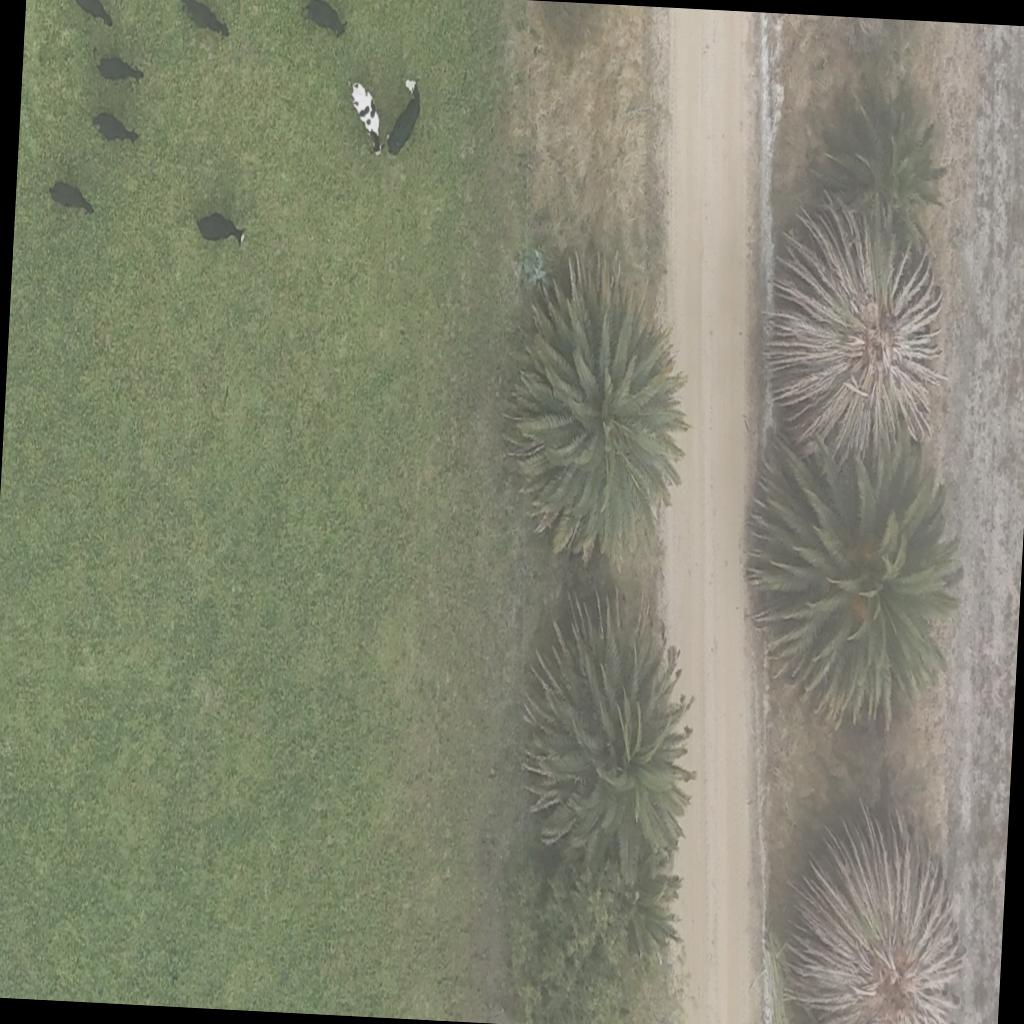cow: (346, 78, 387, 156), (386, 78, 421, 160), (192, 208, 250, 252), (179, 0, 231, 40), (302, 0, 349, 39), (93, 50, 143, 86), (92, 111, 140, 146), (48, 180, 96, 215), (68, 0, 115, 29)
